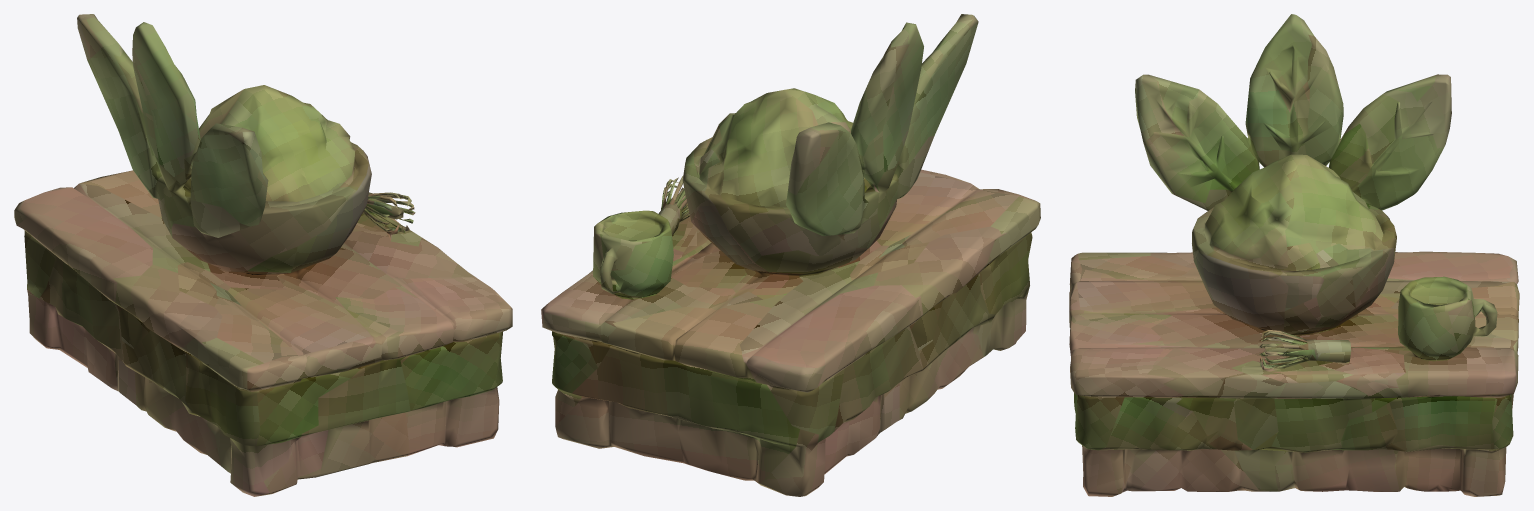
Rendered from JP_사물_s2_station_topping_t1.glb.
3 renders of one model, left to right at view 1: azimuth 30°, elevation 25°; view 2: azimuth 150°, elevation 25°; view 3: azimuth 270°, elevation 25°, orthographic. The views are drawn at different scales.
Visible parts, largest first — view 1: tripo_node_c2ace075-770c-4c81-a394-4e120689e46e; view 2: tripo_node_c2ace075-770c-4c81-a394-4e120689e46e; view 3: tripo_node_c2ace075-770c-4c81-a394-4e120689e46e.
Boxes of the visible parts, left/top/right/bottom form: tripo_node_c2ace075-770c-4c81-a394-4e120689e46e: left=14, top=14, right=512, bottom=496; tripo_node_c2ace075-770c-4c81-a394-4e120689e46e: left=541, top=14, right=1040, bottom=496; tripo_node_c2ace075-770c-4c81-a394-4e120689e46e: left=1069, top=14, right=1519, bottom=496.
Size of the model in its own units: 0.6765 by 0.909 by 0.9994.
Materials: 1 (1 with a texture image).
